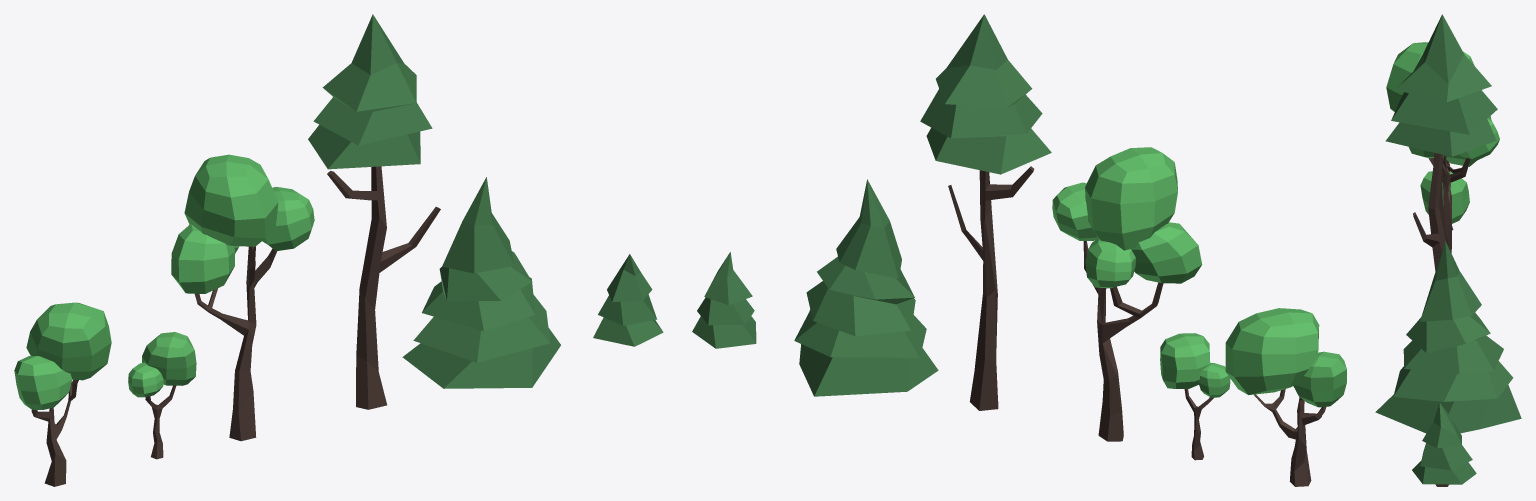
Rendered from ONE.fbx.
The picture shows the model from 3 angles, left to right: view 1: azimuth 30°, elevation 25°; view 2: azimuth 150°, elevation 25°; view 3: azimuth 270°, elevation 25°; orthographic projection. The views are drawn at different scales.
Parts seen in each view (by area): view 1: Circle.014, Circle.012, Cube.026, Cube.023, Circle.005, Circle.017; view 2: Circle.014, Cube.026, Circle.012, Cube.023, Circle.005, Circle.017; view 3: Circle.014, Circle.012, Circle.017, Cube.026, Circle.005, Cube.023.
Boxes of the visible parts, bbox=[...] form: Circle.014: bbox=[402, 177, 560, 388]; Circle.012: bbox=[308, 14, 440, 409]; Cube.026: bbox=[171, 154, 314, 441]; Cube.023: bbox=[14, 302, 111, 486]; Circle.005: bbox=[128, 332, 196, 459]; Circle.017: bbox=[593, 254, 663, 346]; Circle.014: bbox=[794, 179, 938, 396]; Cube.026: bbox=[1052, 147, 1202, 441]; Circle.012: bbox=[920, 14, 1051, 410]; Cube.023: bbox=[1225, 308, 1346, 486]; Circle.005: bbox=[1160, 333, 1230, 460]; Circle.017: bbox=[692, 252, 756, 348]; Circle.014: bbox=[1375, 241, 1521, 433]; Circle.012: bbox=[1385, 14, 1497, 271]; Circle.017: bbox=[1412, 402, 1476, 486]; Cube.026: bbox=[1386, 42, 1499, 253]; Circle.005: bbox=[1420, 171, 1469, 223]; Cube.023: bbox=[1442, 116, 1491, 230].
Size of the model in its own units: 8796 by 5128 by 1907.
